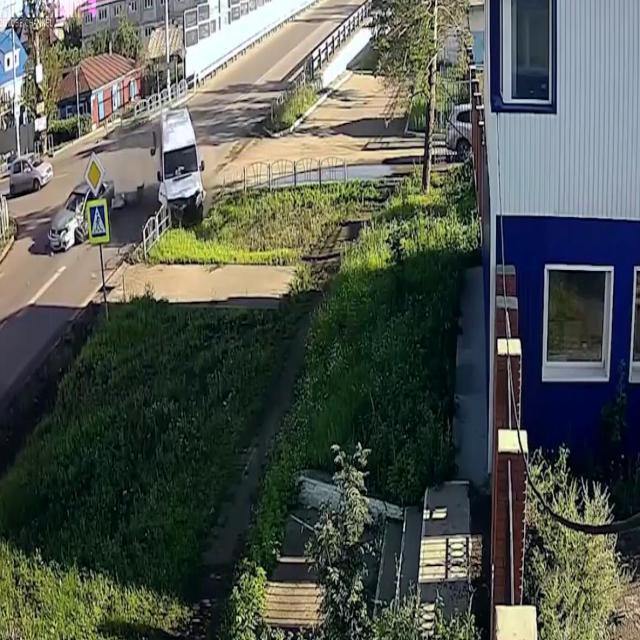accident: (149, 86, 209, 246)
